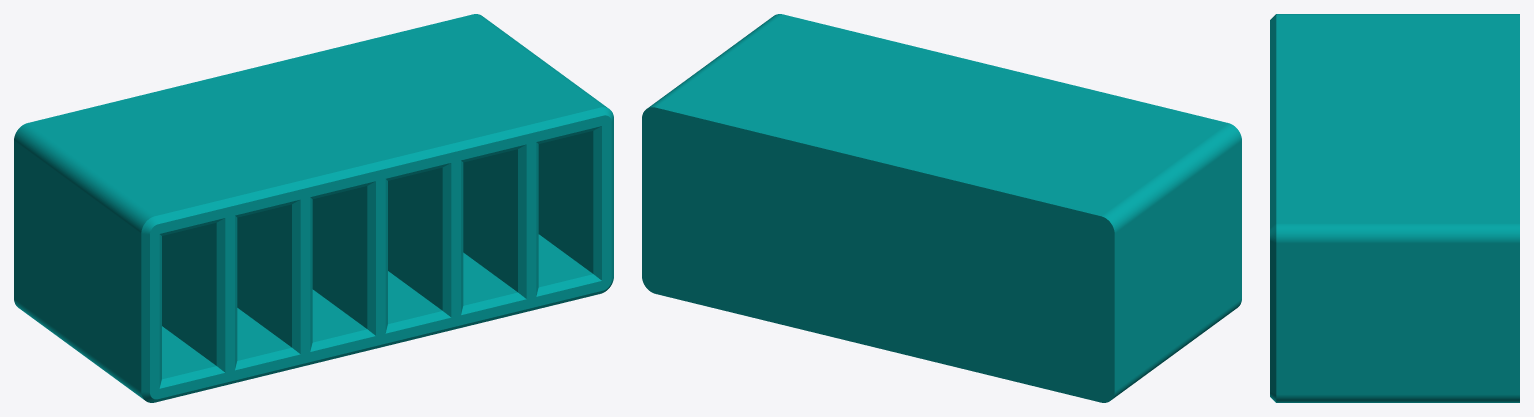
File: 06_cable_organizer.glb
3 views of the same model, side by side, from view 1: azimuth 30°, elevation 25°; view 2: azimuth 150°, elevation 25°; view 3: azimuth 270°, elevation 25° (orthographic). The views are drawn at different scales.
Parts seen in each view (by area): view 1: 06_cable_organizer.stl; view 2: 06_cable_organizer.stl; view 3: 06_cable_organizer.stl.
Part boxes in pixels (x1,y1,x2,y2): 06_cable_organizer.stl: (14,14,613,402); 06_cable_organizer.stl: (642,14,1241,402); 06_cable_organizer.stl: (1270,14,1519,402).
Bounding box in the file's own units: 69 × 26 × 33.
